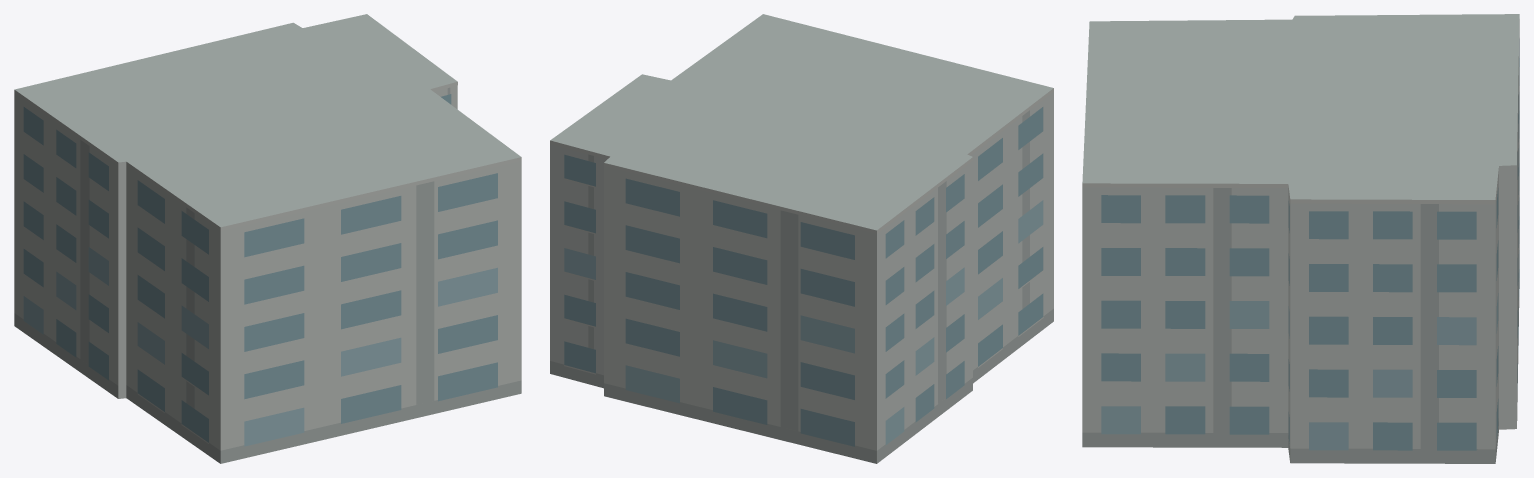
File: survey-upis-32493816.glb
3 renders of one model, left to right at view 1: azimuth 30°, elevation 25°; view 2: azimuth 150°, elevation 25°; view 3: azimuth 270°, elevation 25°, orthographic. The views are drawn at different scales.
Parts seen in each view (by area): view 1: survey-upis-32493816.tmp; view 2: survey-upis-32493816.tmp; view 3: survey-upis-32493816.tmp.
Part boxes in pixels (x1,y1,x2,y2): survey-upis-32493816.tmp: (14, 14, 521, 463); survey-upis-32493816.tmp: (550, 14, 1053, 463); survey-upis-32493816.tmp: (1082, 14, 1519, 463).
Size of the model in its own units: 23.07 by 15.25 by 22.91.
